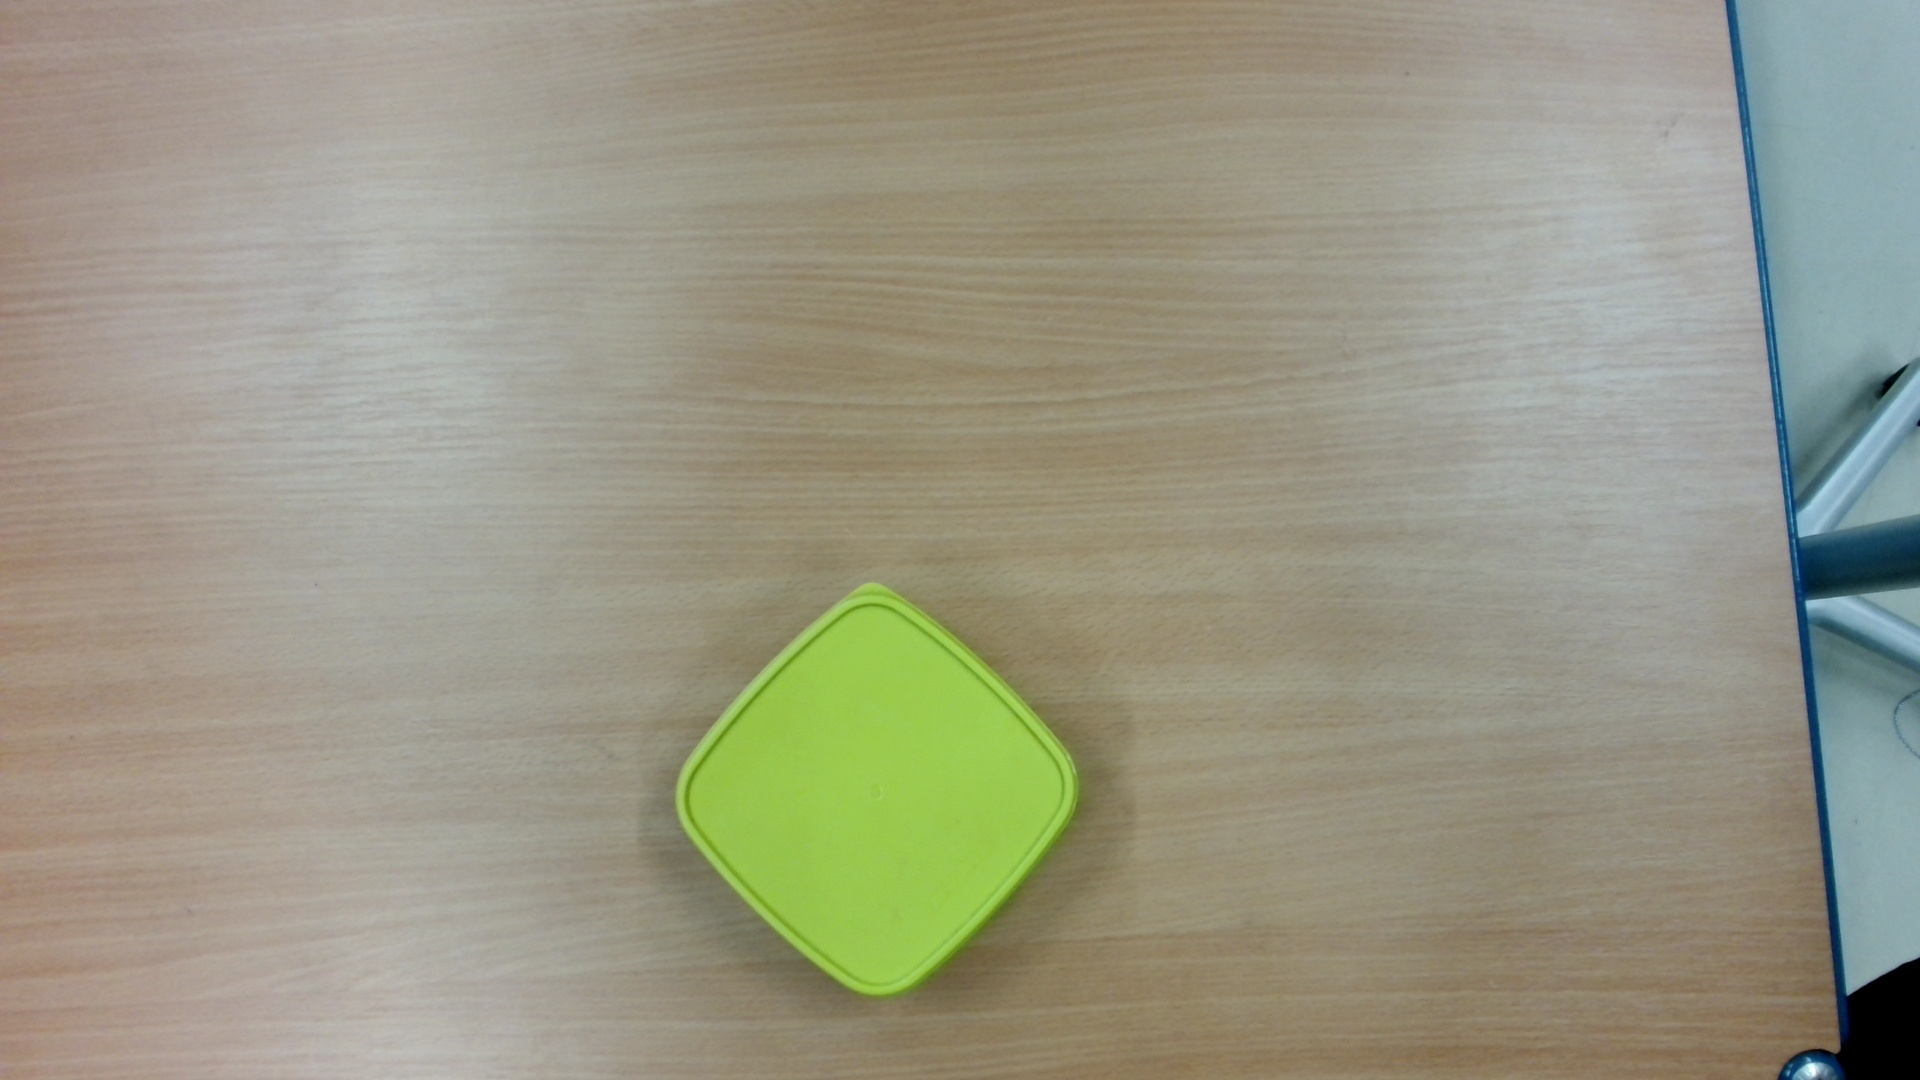Box: (665, 574, 1095, 1015)
